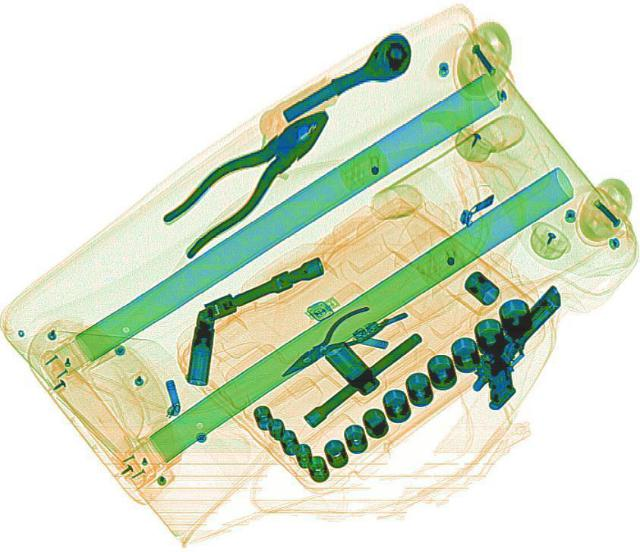Gun: (445, 281, 601, 411)
Pliers: (143, 94, 351, 261), (266, 301, 386, 383)
